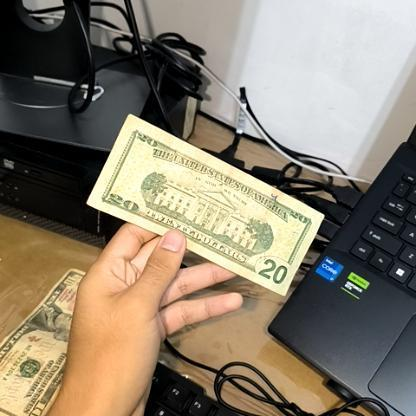ten-front: (0, 264, 104, 415)
twenty-back: (86, 109, 323, 299)
